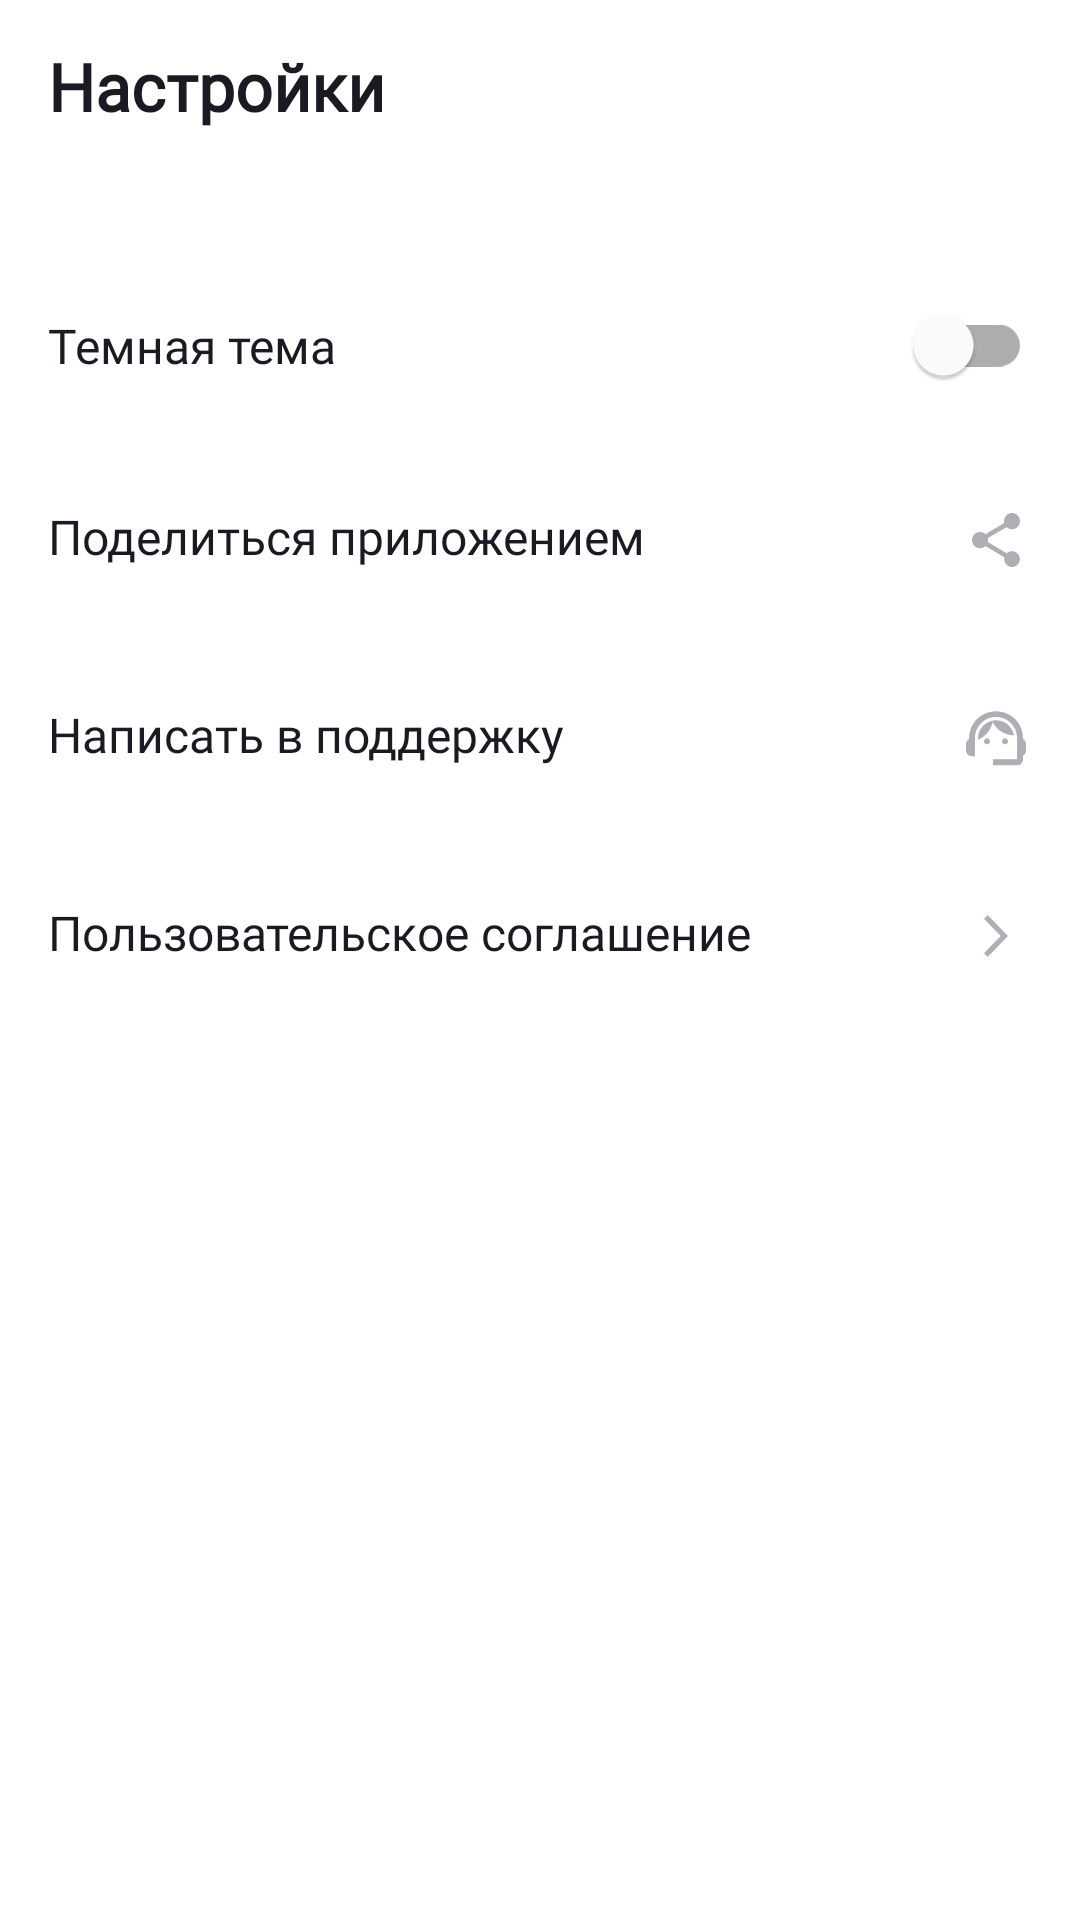

Where icons sit on this 1080*1920 app screen, as [x1, y1, x2, y2]:
share: [972, 513, 1020, 567]
support: [966, 711, 1026, 765]
